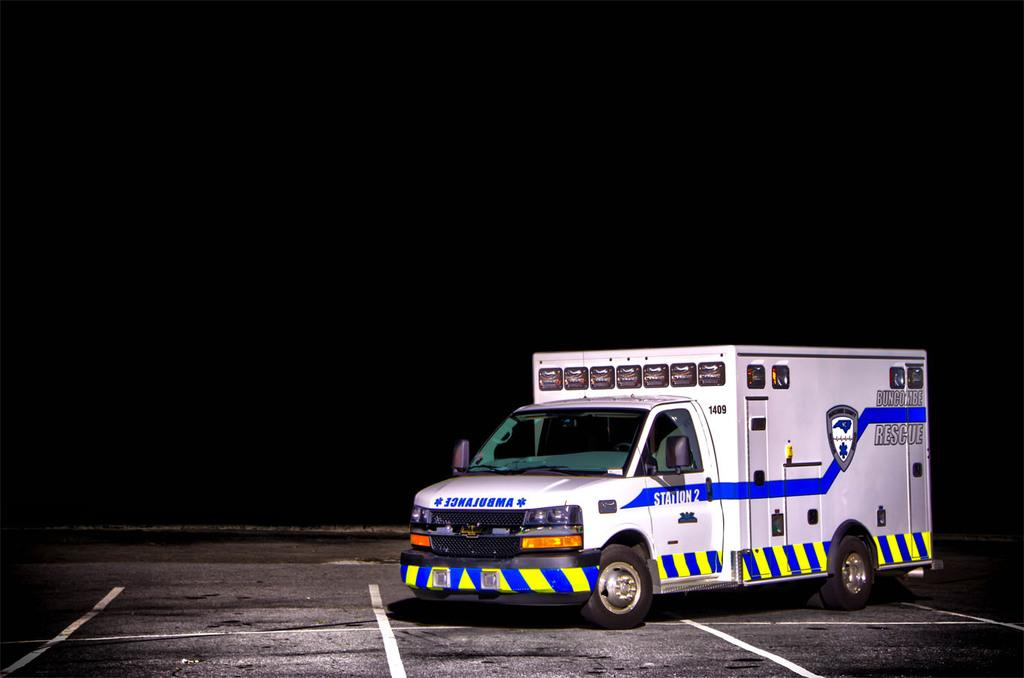Ambulance: (388, 351, 953, 624)
